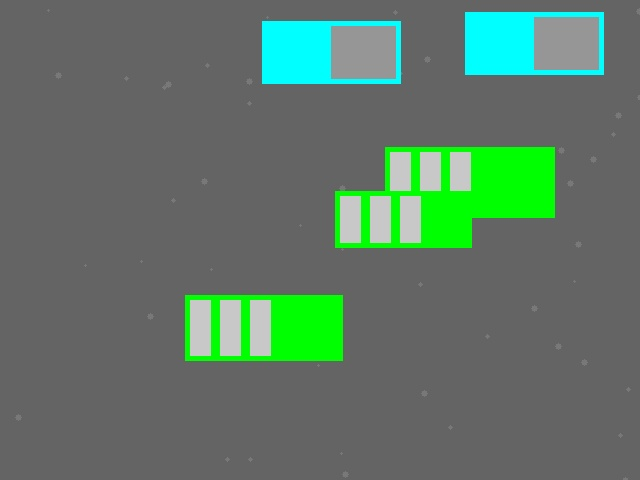bus: (385, 147, 554, 217), (185, 295, 342, 360), (335, 191, 471, 247)
truck: (262, 21, 400, 83), (465, 12, 603, 74)
